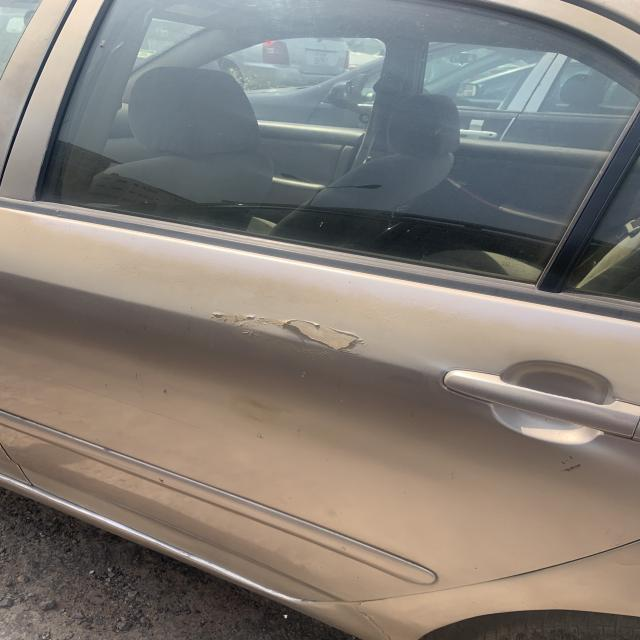paint-chip: (191, 307, 367, 370)
